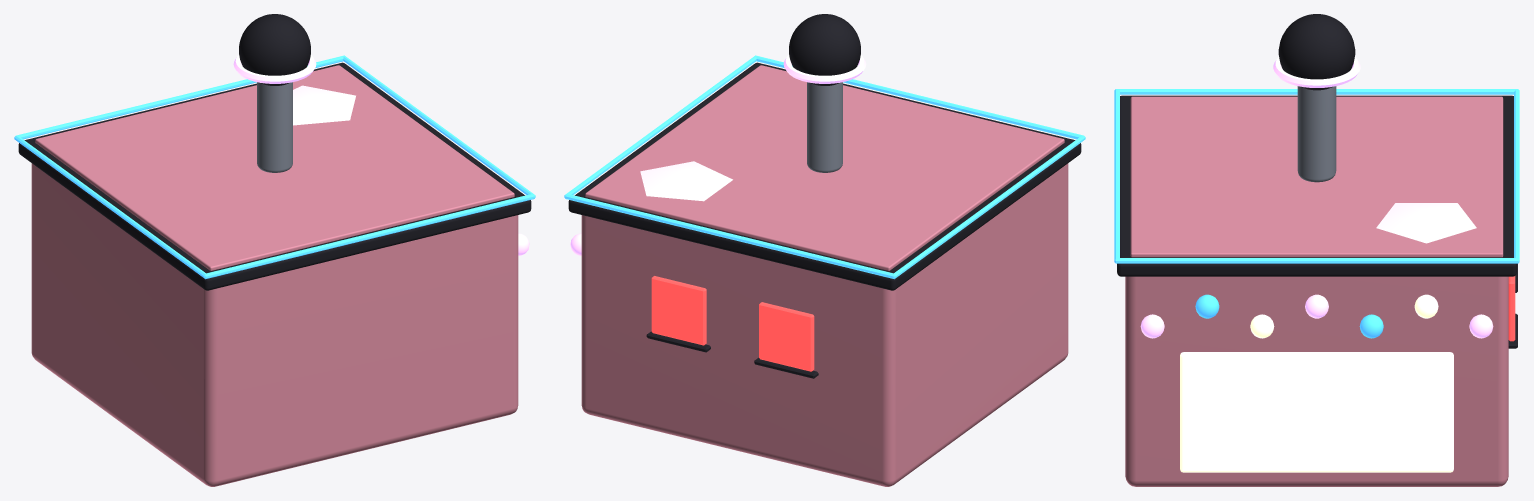
File: karaoke.glb
3 views of the same model, side by side, from view 1: azimuth 30°, elevation 25°; view 2: azimuth 150°, elevation 25°; view 3: azimuth 270°, elevation 25° (orthographic). The views are drawn at different scales.
Parts seen in each view (by area): view 1: karaoke; view 2: karaoke; view 3: karaoke.
Boxes of the visible parts, left/top/right/bottom form: karaoke: left=14, top=14, right=535, bottom=486; karaoke: left=564, top=14, right=1085, bottom=486; karaoke: left=1114, top=14, right=1519, bottom=486.
Bounding box in the file's own units: 7.62 × 7.9 × 7.4.
Materials: 1 (1 with a texture image).
